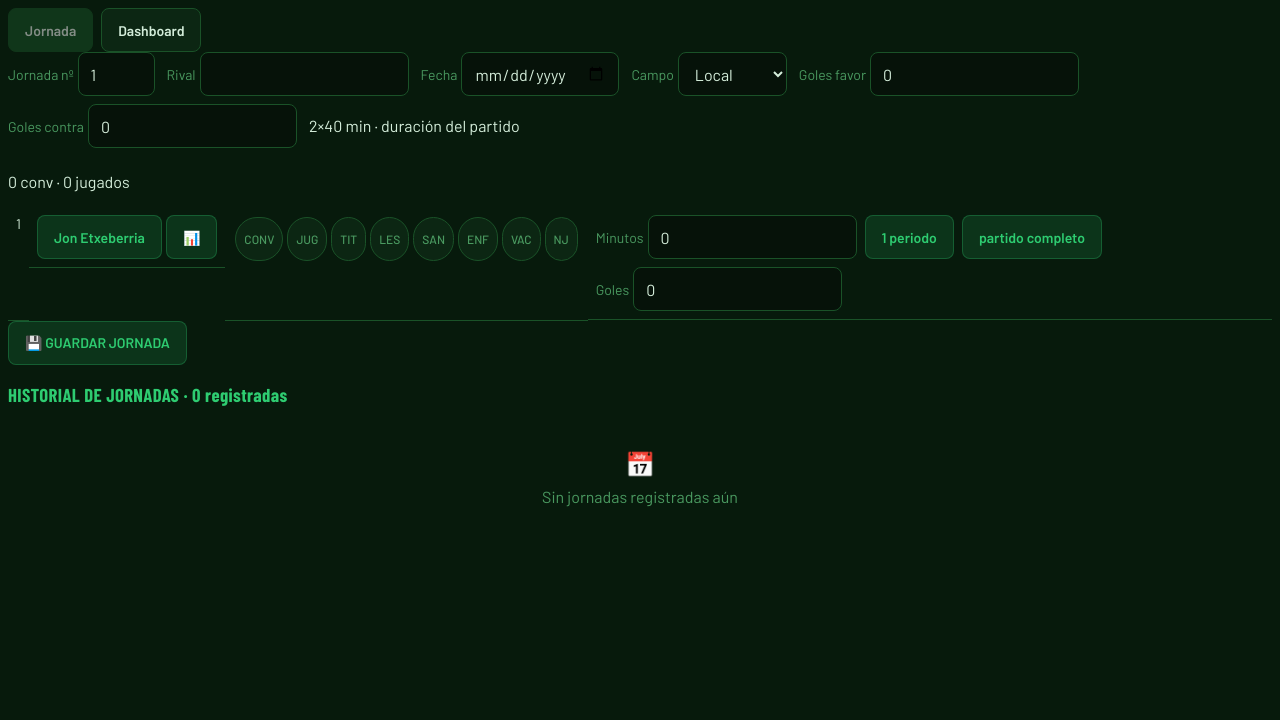
Test: MinutajeTab › stats panel shows the correct alert badge according to alerta
Expected: the button "Jon Etxeberria" is shown, 37,215 -> 162,259
Click the button named "stats-jugador" at (192, 237), box 166,215 -> 217,259
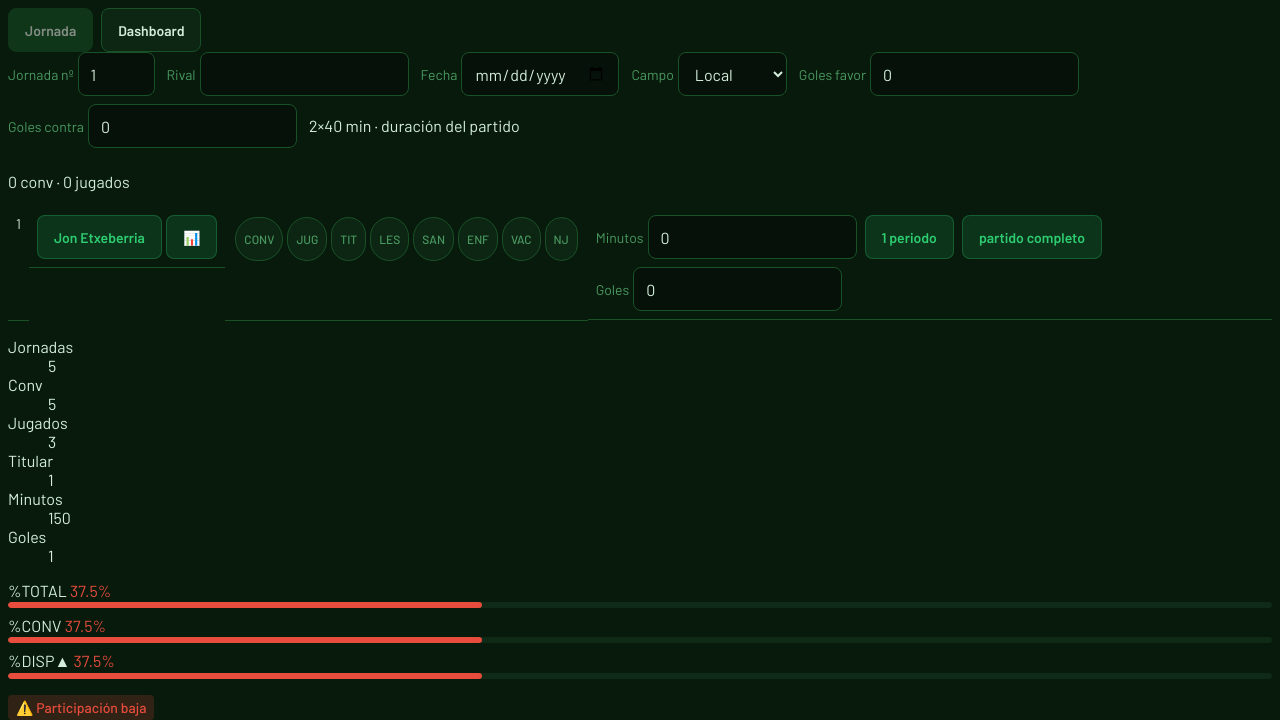
Now the text "⚠️ Participación baja" is shown, box 8,694 -> 154,719
